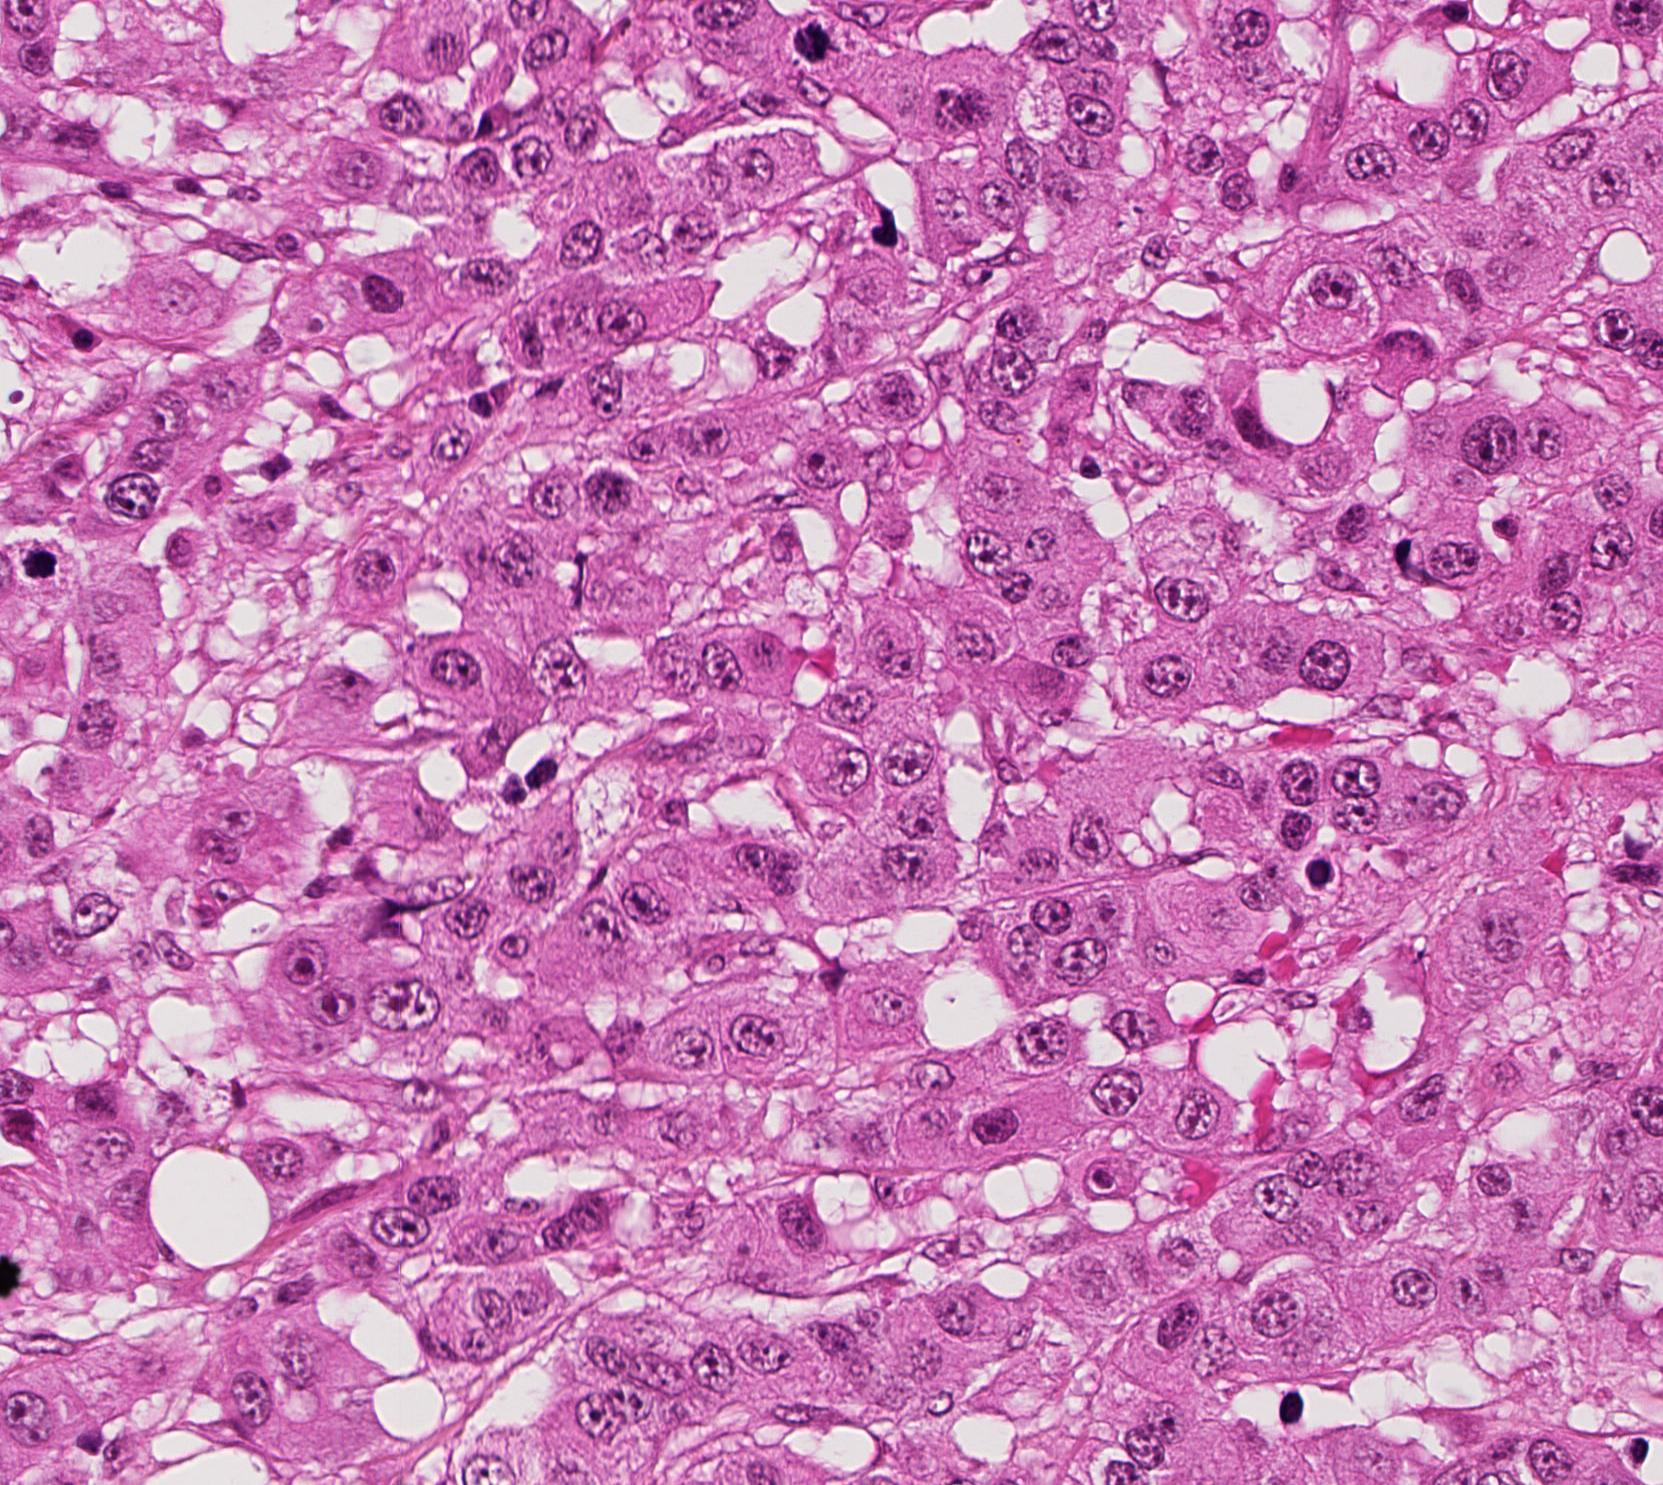mitosis: (783, 13, 843, 73), (4, 527, 65, 588)
